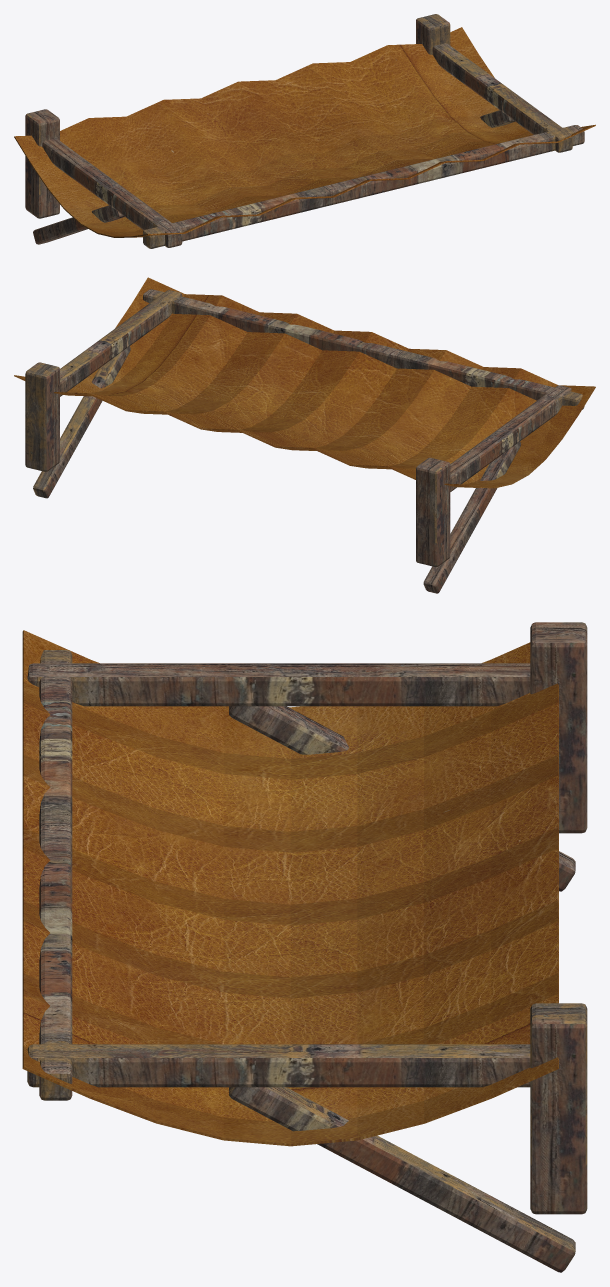
Rendered from spawn-b-shade.glb.
3 renders of one model, top to bottom at view 1: azimuth 30°, elevation 25°; view 2: azimuth 150°, elevation 25°; view 3: azimuth 270°, elevation 25°, orthographic. The views are drawn at different scales.
Parts seen in each view (by area): view 1: Draped canvas; view 2: Draped canvas; view 3: Draped canvas.
Boxes of the visible parts, left/top/right/bottom form: Draped canvas: left=14, top=14, right=595, bottom=248; Draped canvas: left=14, top=277, right=595, bottom=593; Draped canvas: left=22, top=622, right=587, bottom=1272.
Size of the model in its own units: 2.18 by 0.5955 by 1.19.
2 materials, 2 textured.
